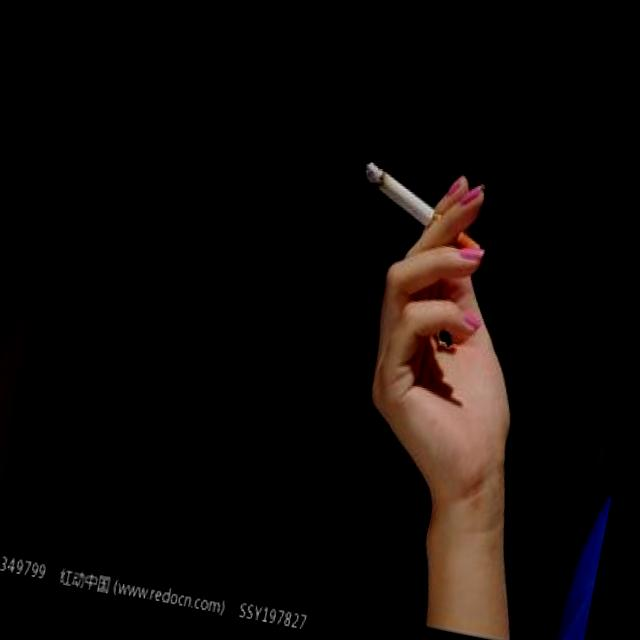cigarette: (350, 158, 496, 272)
